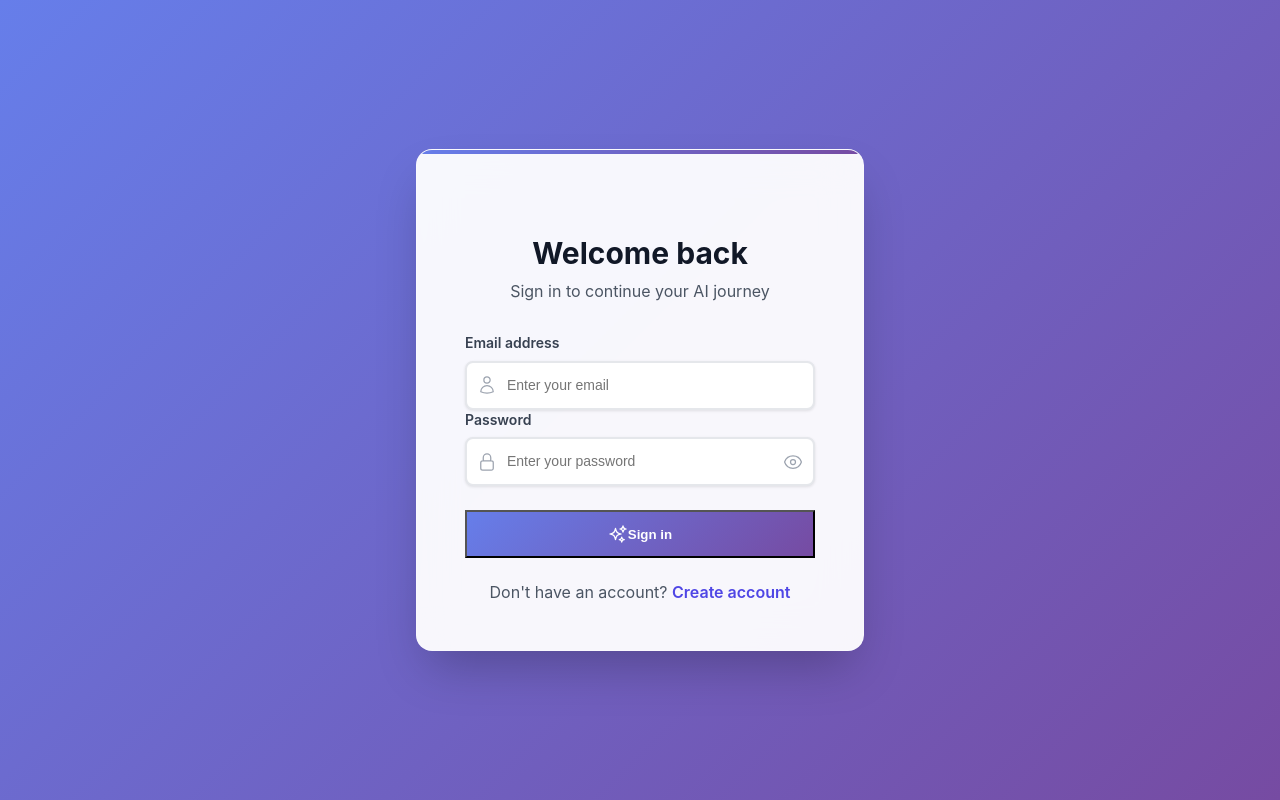
Test case: LoginForm › Form Submission › should handle network error gracefully
In the field labelled "Email address": (640, 385) [465,360,815,410], type "test@example.com"
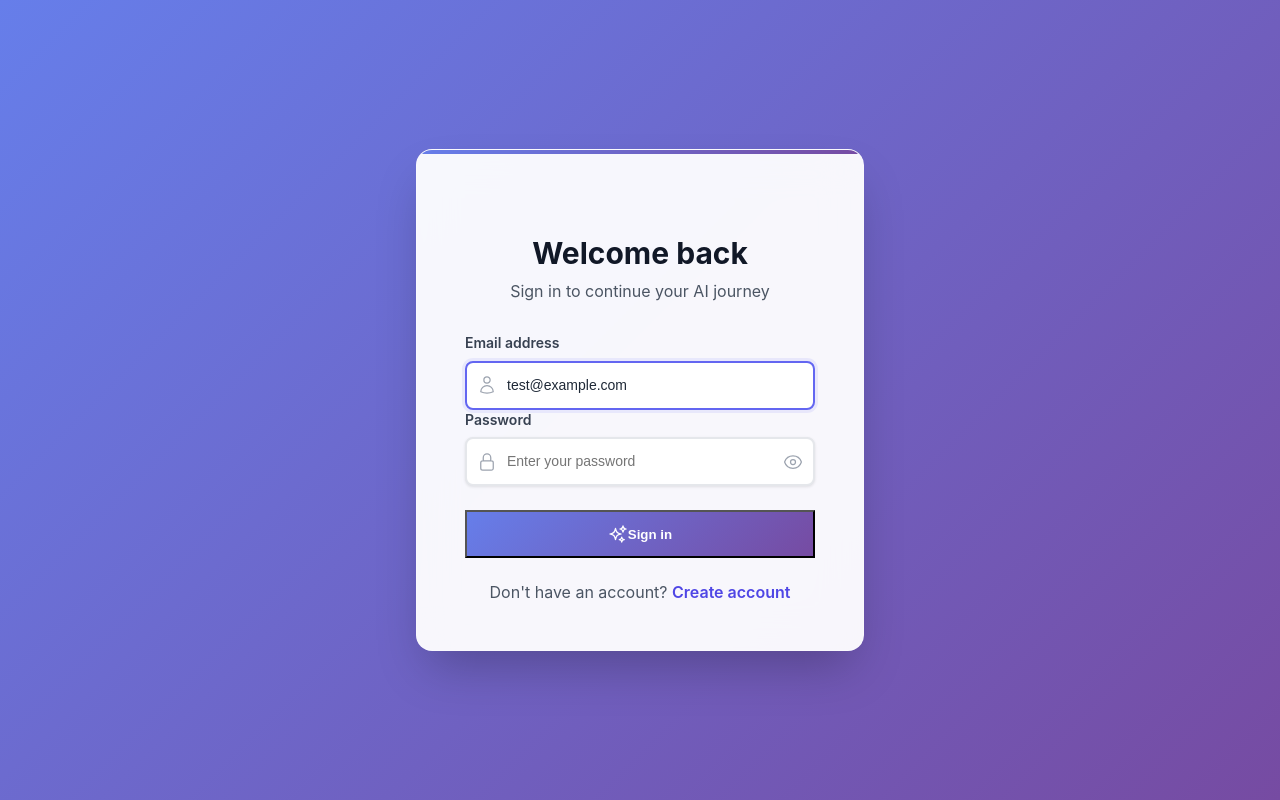
In the password field labelled "Password": (640, 462) [465,437,815,486], type "password123"
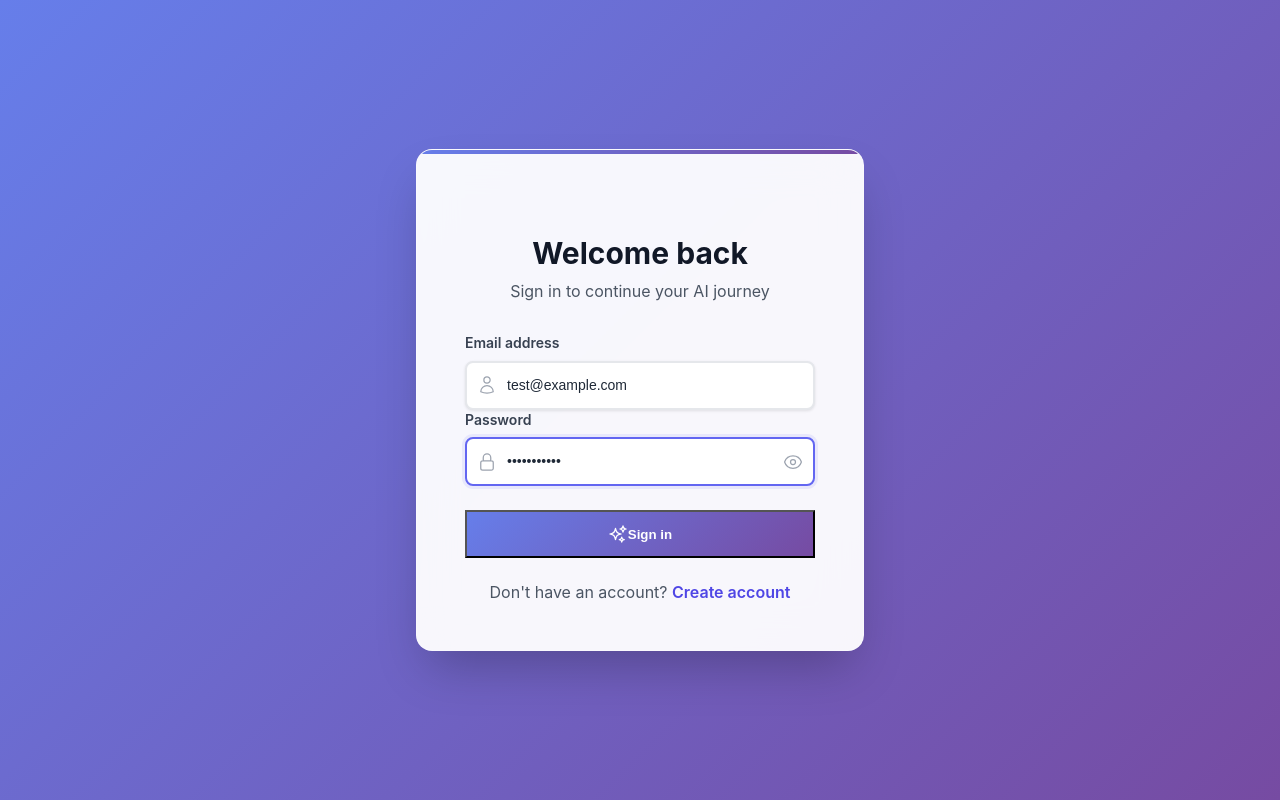
Click the button "Sign in": (640, 534) [465,510,815,558]
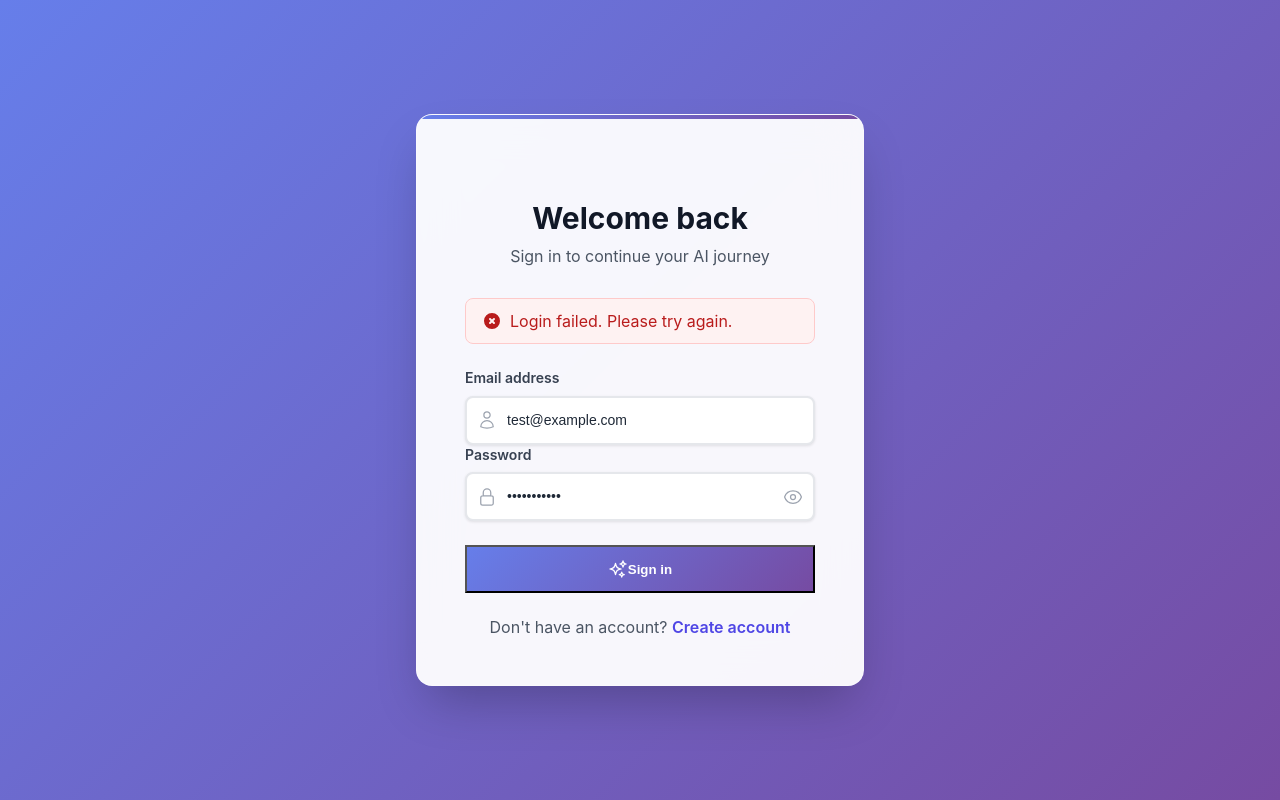
Expected: the text "Login failed. Please try again." is shown, [510,311,732,331]
